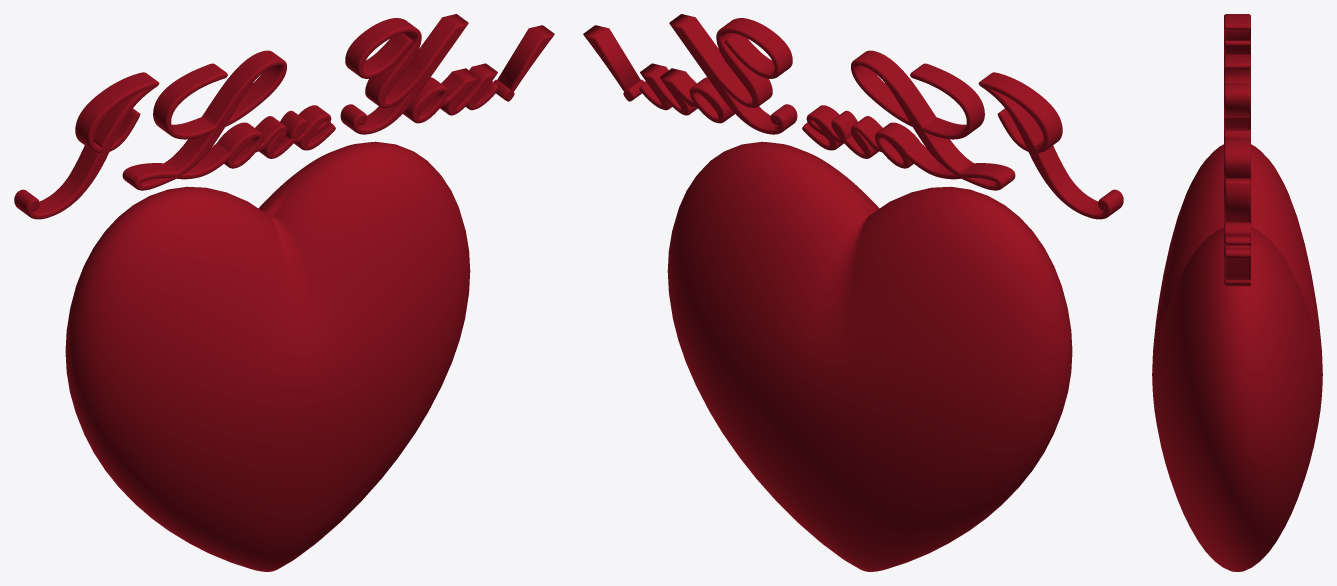
The model's file is heart.glb.
3 renders of one model, left to right at view 1: azimuth 30°, elevation 25°; view 2: azimuth 150°, elevation 25°; view 3: azimuth 270°, elevation 25°, orthographic. The views are drawn at different scales.
Parts seen in each view (by area): view 1: Object_4, Object_6, Object_7, Object_5, Object_2, Object_3; view 2: Object_4, Object_6, Object_7, Object_5, Object_2, Object_3; view 3: Object_4, Object_7, Object_6, Object_5.
Part boxes in pixels (x1,y1,x2,y2): Object_4: (65, 141, 470, 571); Object_6: (122, 50, 335, 190); Object_7: (340, 14, 554, 134); Object_5: (14, 72, 159, 219); Object_2: (29, 27, 550, 217); Object_3: (138, 62, 334, 189); Object_4: (667, 141, 1072, 571); Object_6: (802, 50, 1015, 190); Object_7: (583, 14, 797, 134); Object_5: (978, 72, 1123, 219); Object_2: (587, 27, 1108, 217); Object_3: (803, 62, 999, 189); Object_4: (1152, 144, 1322, 571); Object_7: (1224, 138, 1250, 286); Object_6: (1224, 54, 1250, 139); Object_5: (1224, 14, 1250, 55).
Bounding box in the file's own units: 2.68 × 2.53 × 0.797.
